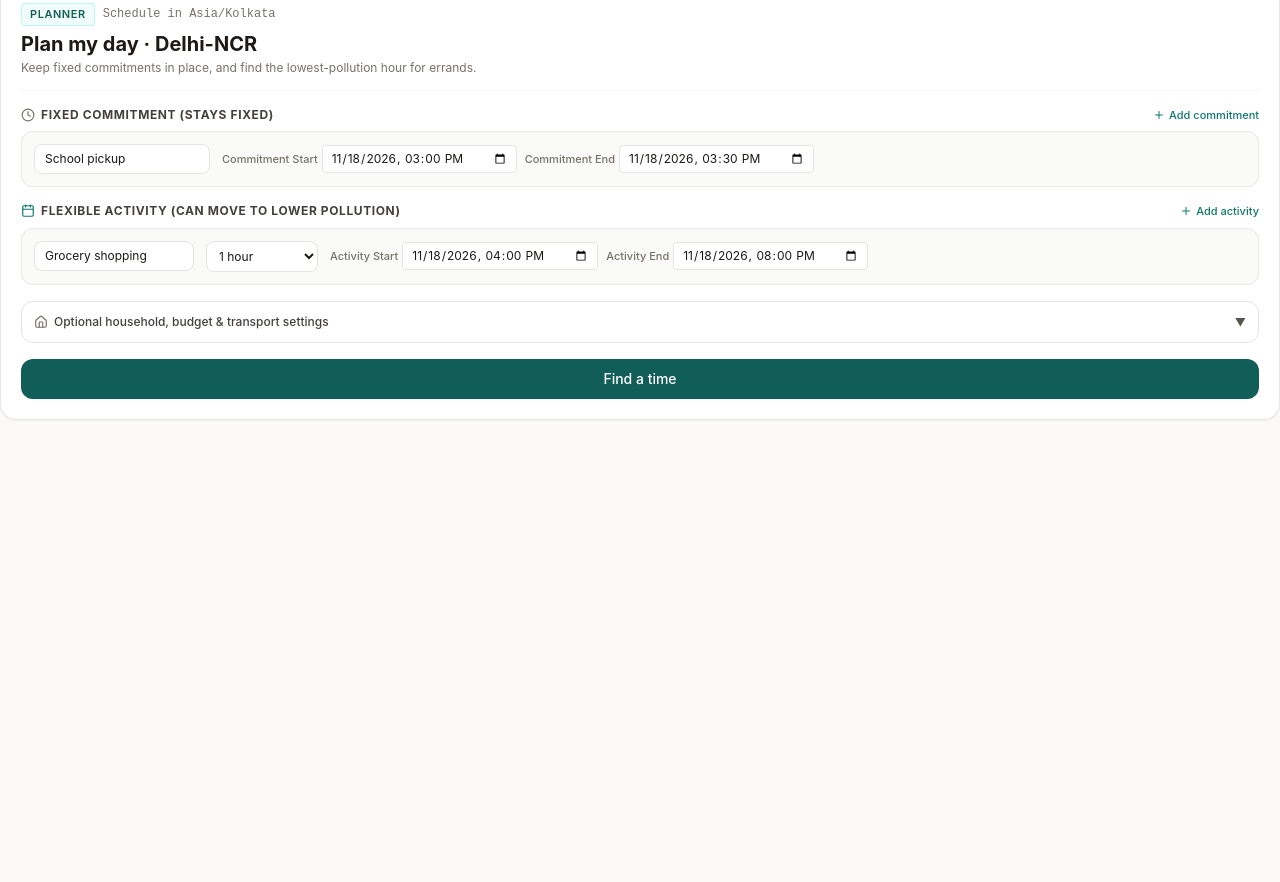
it: renders distinctive validated Gemini sentence and badge on success
Earlier steps of the test are not shown.
Click the button "Find a time": (640, 378) [21,358,1259,398]
(page scrolled)
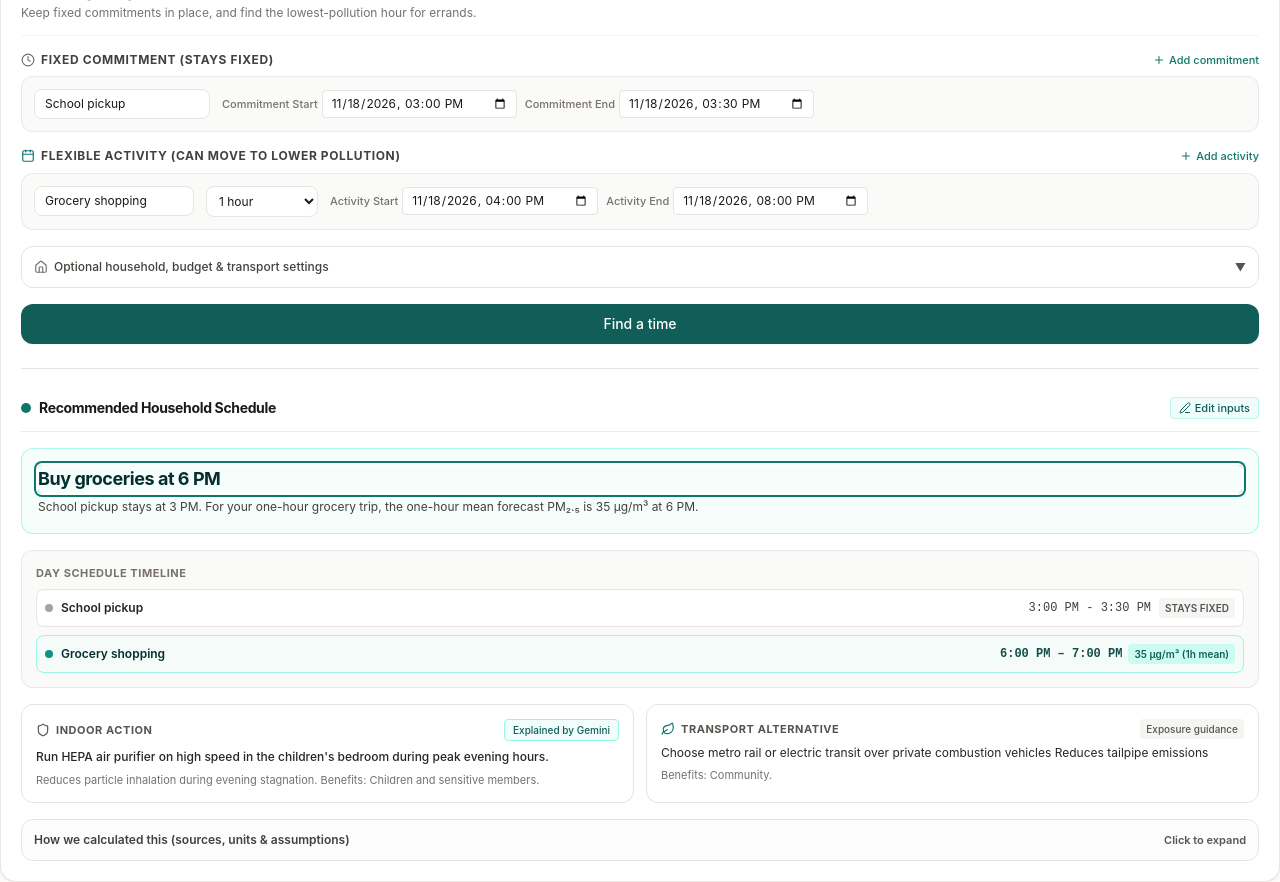
Expected: the text "Run HEPA air purifier on high speed in the children's bedroom during peak evening hours." is shown, [36,749,549,764]
Expected: the text "Explained by Gemini" is shown, [504,719,619,741]
